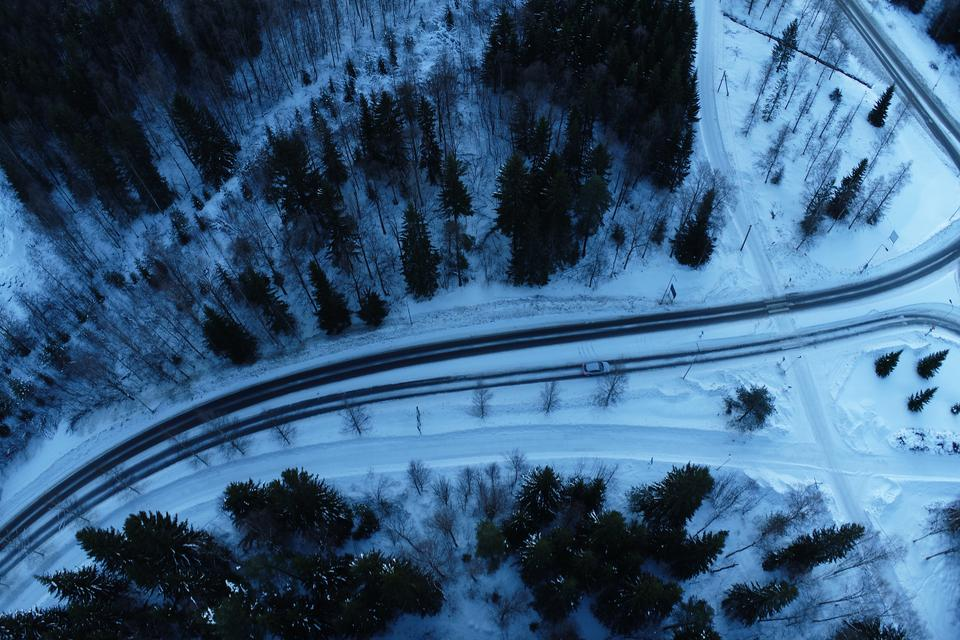intersection: (725, 281, 830, 373)
roundabout: (897, 181, 960, 422)
